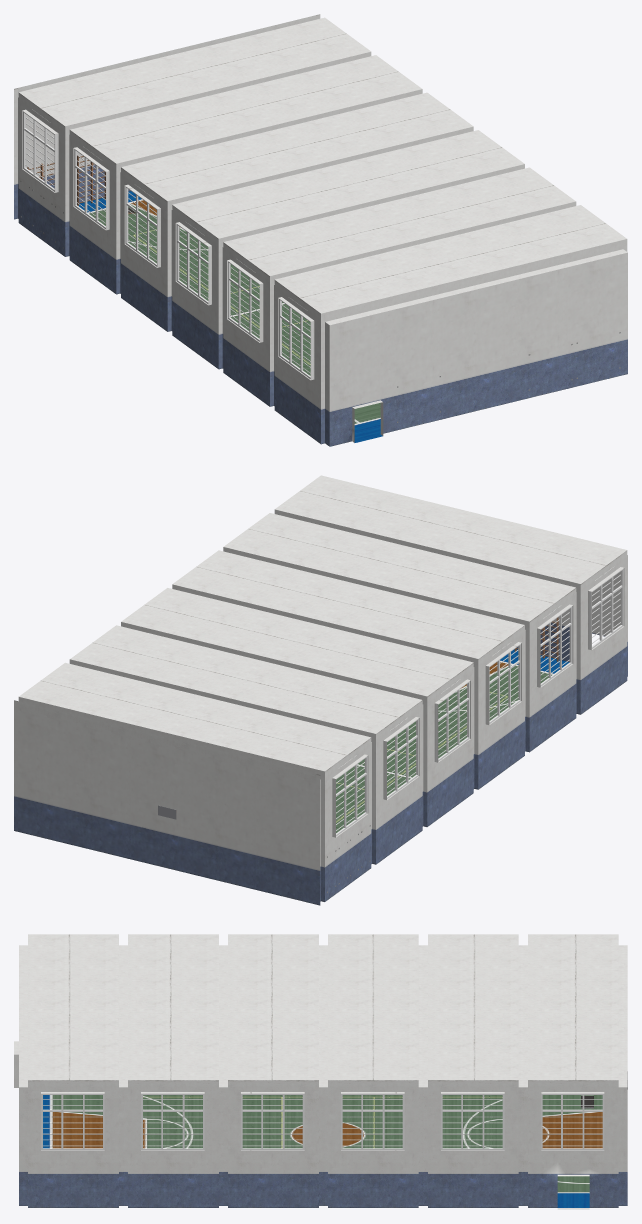
File: gym.optimized.glb
3 views of the same model, one above another, from view 1: azimuth 30°, elevation 25°; view 2: azimuth 150°, elevation 25°; view 3: azimuth 270°, elevation 25° (orthographic). The views are drawn at different scales.
Visible parts, largest first — view 1: exterior, floor, props; view 2: exterior, floor; view 3: exterior, floor.
Boxes of the visible parts, box(x1,y1,x2,y2) form: exterior: box(14, 14, 627, 446); floor: box(79, 191, 382, 442); props: box(27, 155, 105, 206); exterior: box(14, 475, 627, 905); floor: box(336, 649, 569, 832); exterior: box(14, 934, 627, 1209); floor: box(43, 1095, 602, 1207).
Size of the model in its own units: 38.92 by 15.51 by 67.57.
13 materials, 11 textured.
